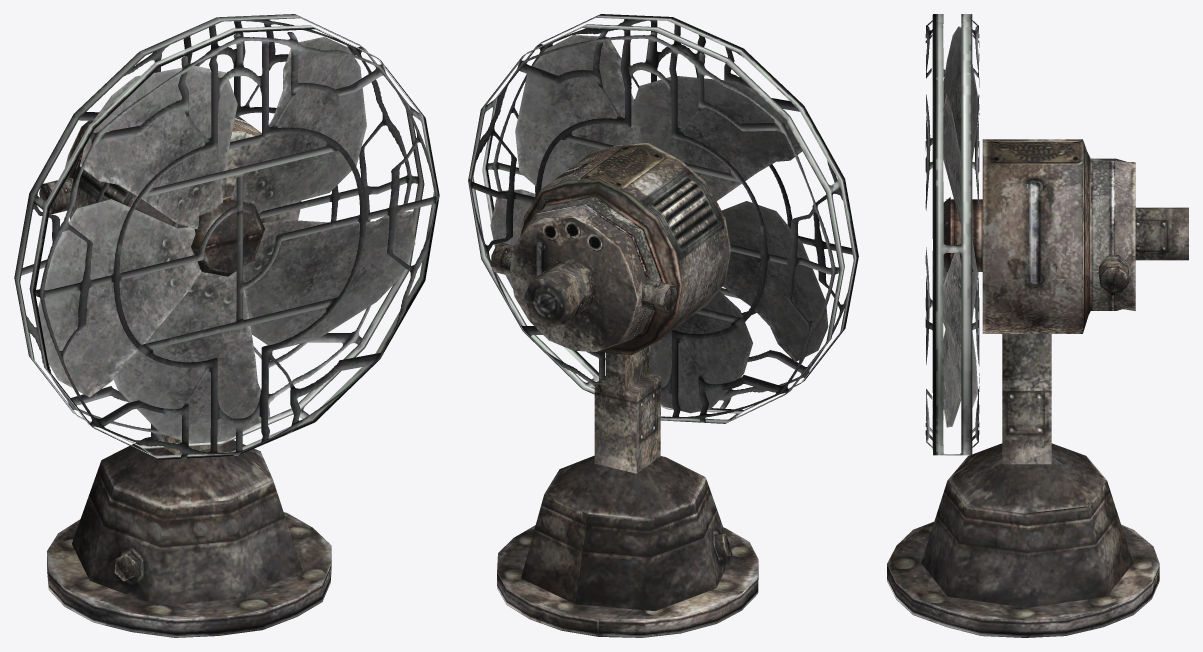
File: fan.obj
3 views of the same model, side by side, from view 1: azimuth 30°, elevation 25°; view 2: azimuth 150°, elevation 25°; view 3: azimuth 270°, elevation 25° (orthographic). The views are drawn at different scales.
Visible parts, largest first — view 1: fan; view 2: fan; view 3: fan.
Boxes of the visible parts, x1=… form: fan: x1=14, y1=14, x2=439, y2=637; fan: x1=468, y1=14, x2=858, y2=637; fan: x1=887, y1=14, x2=1188, y2=637.
Bounding box in the file's own units: 0.5664 × 0.7762 × 0.3888.
Materials: 1 (1 with a texture image).
